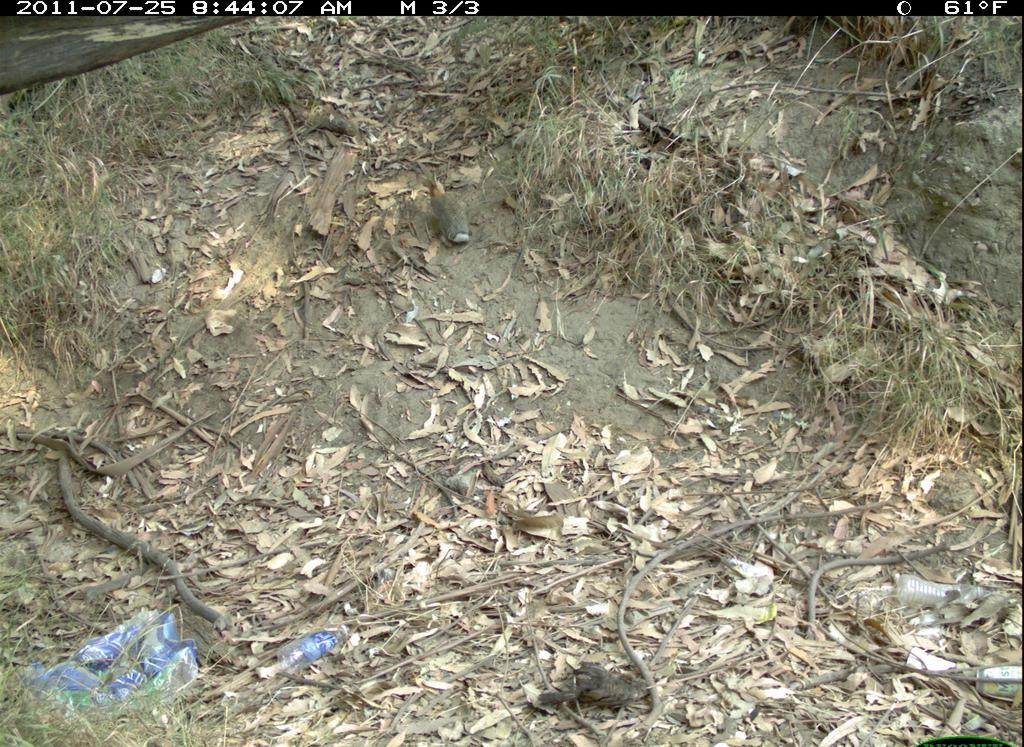rabbit: (424, 168, 478, 251)
